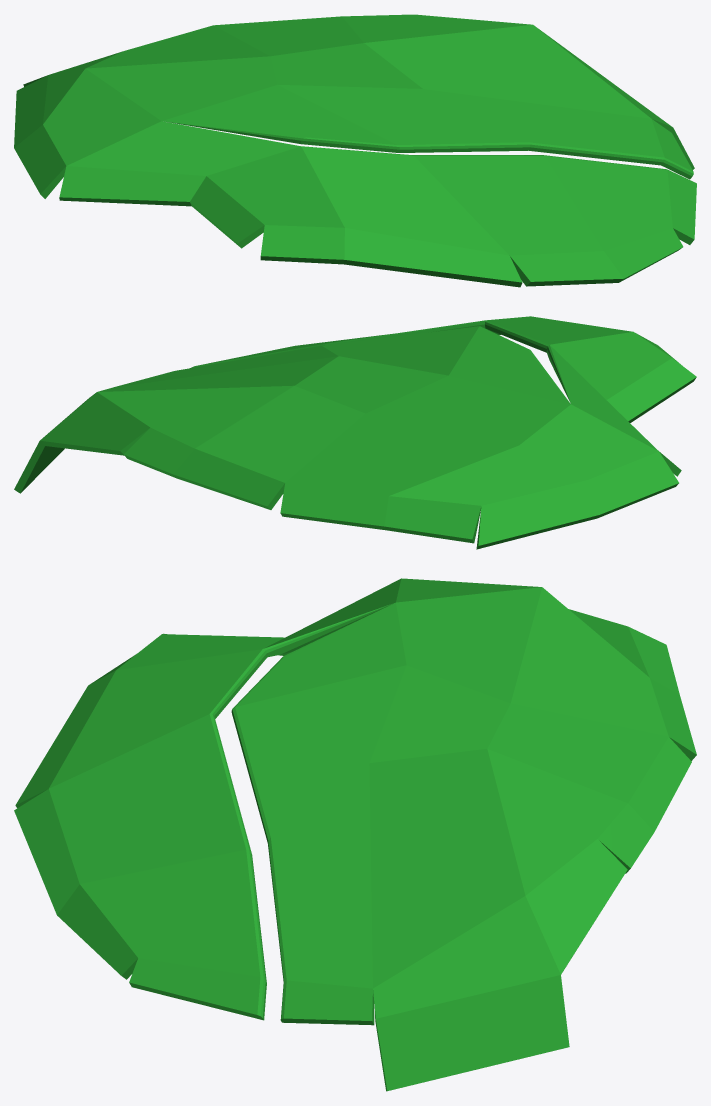
The model's file is Grass.obj.
3 views of the same model, one above another, from view 1: azimuth 30°, elevation 25°; view 2: azimuth 150°, elevation 25°; view 3: azimuth 270°, elevation 25° (orthographic). The views are drawn at different scales.
Parts seen in each view (by area): view 1: Grass; view 2: Grass; view 3: Grass.
Part boxes in pixels (<box>): Grass: <box>14,14,696,287</box>; Grass: <box>14,316,696,549</box>; Grass: <box>14,578,696,1091</box>.
Size of the model in its own units: 45.38 by 12.42 by 36.75.
Materials: 1 (1 with a texture image).
